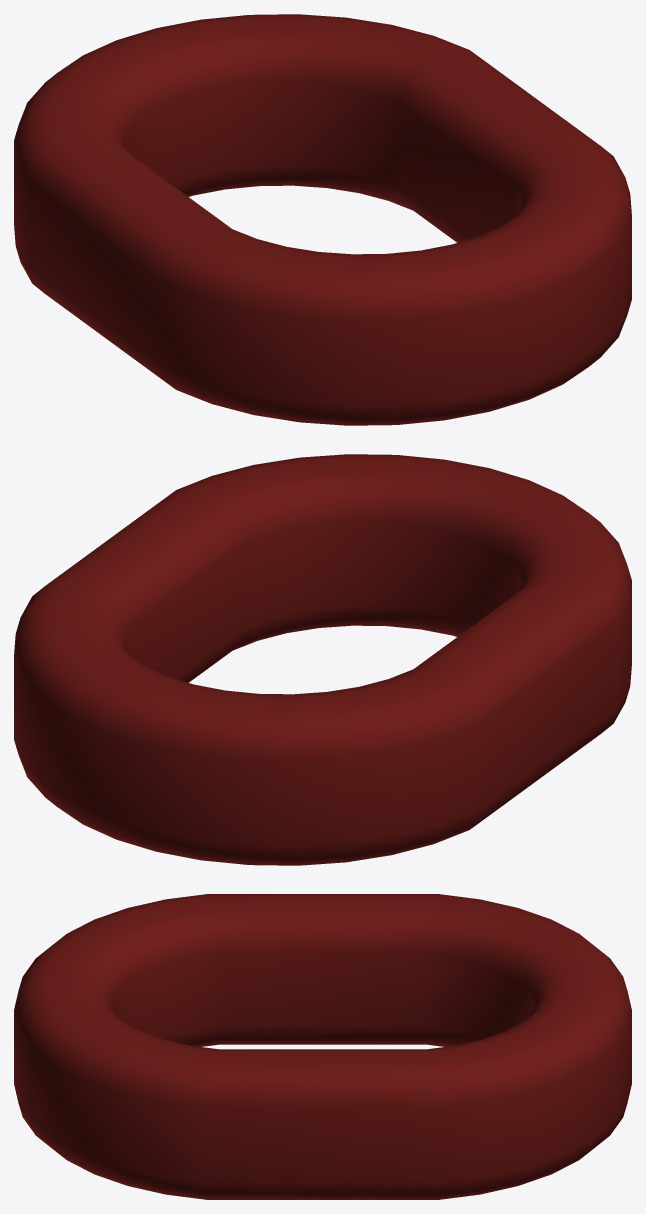
The model's file is Jelly_Green_PainMouth.fbx.
The picture shows the model from 3 angles, top to bottom: view 1: azimuth 30°, elevation 25°; view 2: azimuth 150°, elevation 25°; view 3: azimuth 270°, elevation 25°; orthographic projection. The views are drawn at different scales.
Visible parts, largest first — view 1: Cylinder.001; view 2: Cylinder.001; view 3: Cylinder.001.
Part boxes in pixels (x1,y1,x2,y2): Cylinder.001: (14,14,631,425); Cylinder.001: (14,454,631,865); Cylinder.001: (14,894,631,1199).
Size of the model in its own units: 20.69 by 6.45 by 27.6.
